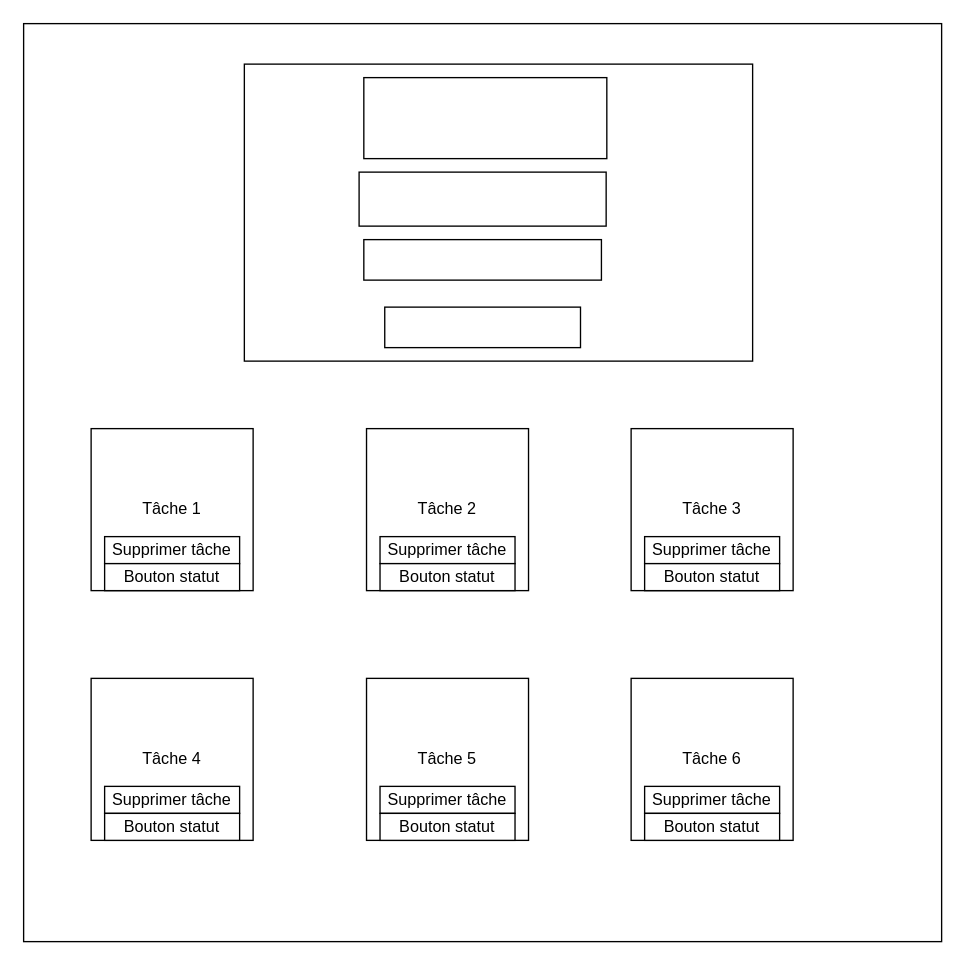
Some shapes in this 965 by 965 pixel diagram are drawn without their labels. The shapes that lost their labels are listed below. From the top down, each one's box as (x1, y1, x2, y2) in pixels, then its label:
(362, 76, 607, 159): Titre de la tâche
(358, 171, 606, 226): Zone de texte
(362, 238, 601, 280): Menu déroulant (statut)
(383, 306, 580, 348): Bouton ajouter tâche
